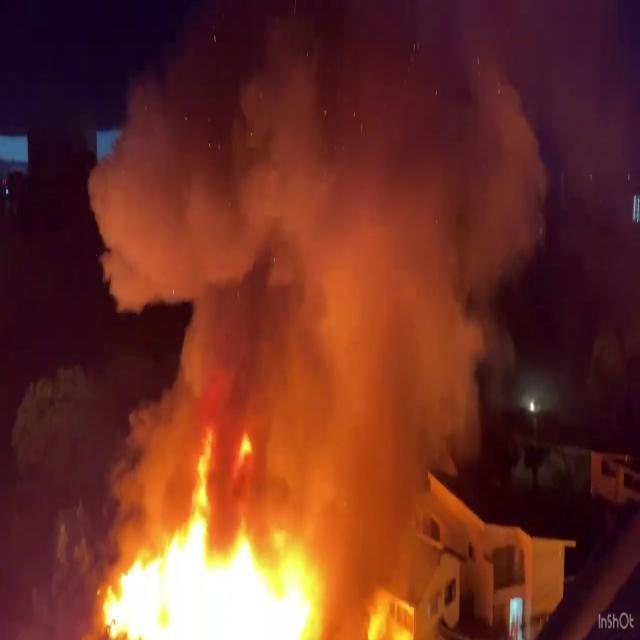Fire: (83, 442, 378, 640)
Smoke: (89, 3, 567, 468)
